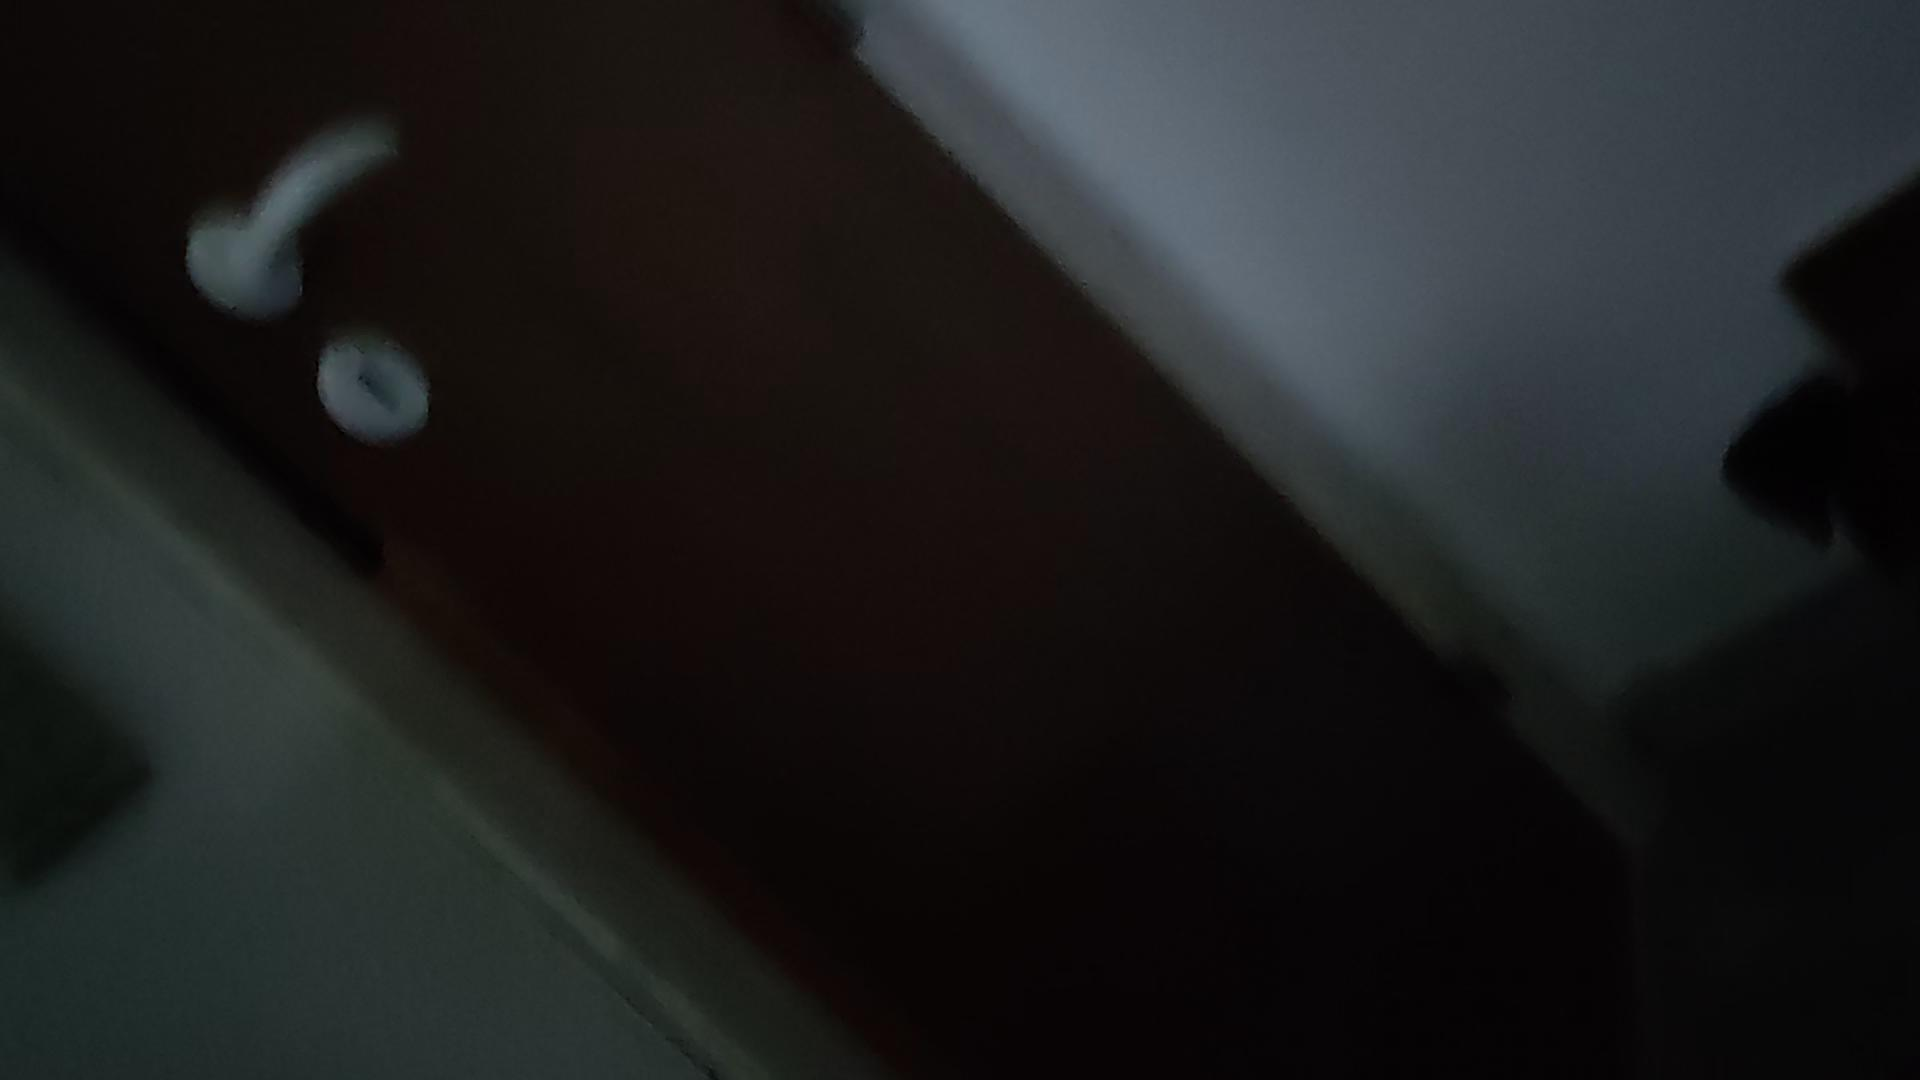Dog: (1685, 309, 1919, 651)
